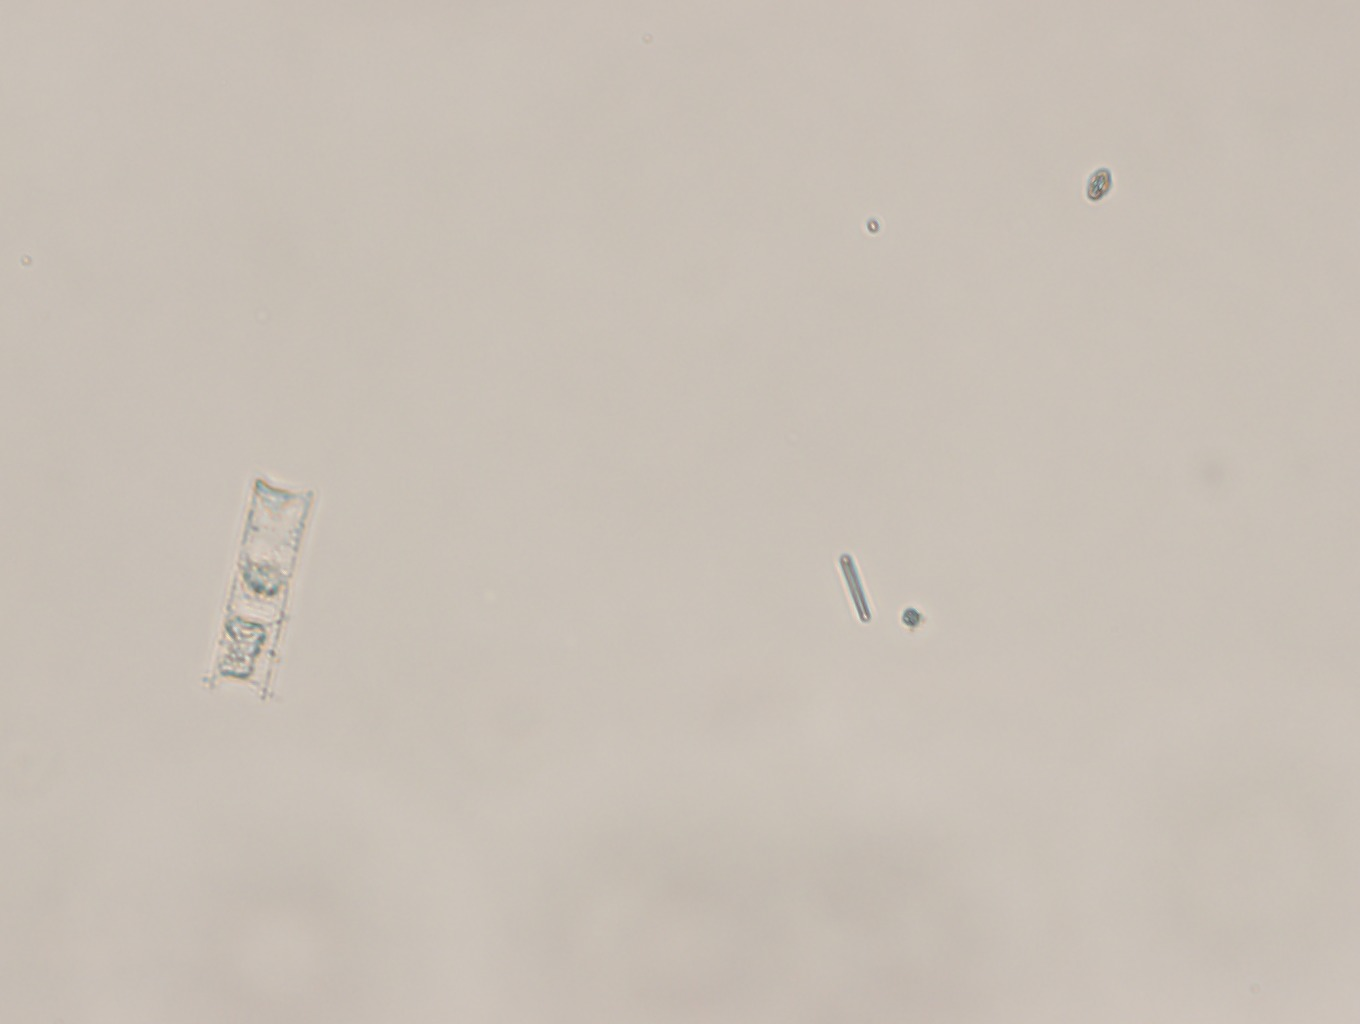chaetoceros: (180, 457, 318, 708)
